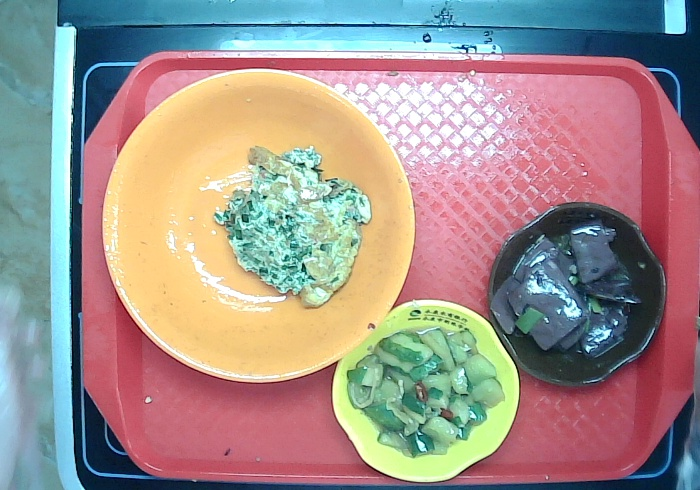YKMZ-Huang_Se_Ao_Bian_Wan: (332, 298, 521, 484)
YKMZ-Ju_Se_Tang_Wan: (102, 66, 416, 384)
YKMZ-Ka_Fei_Ao_Bian_Wan: (485, 200, 665, 388)
